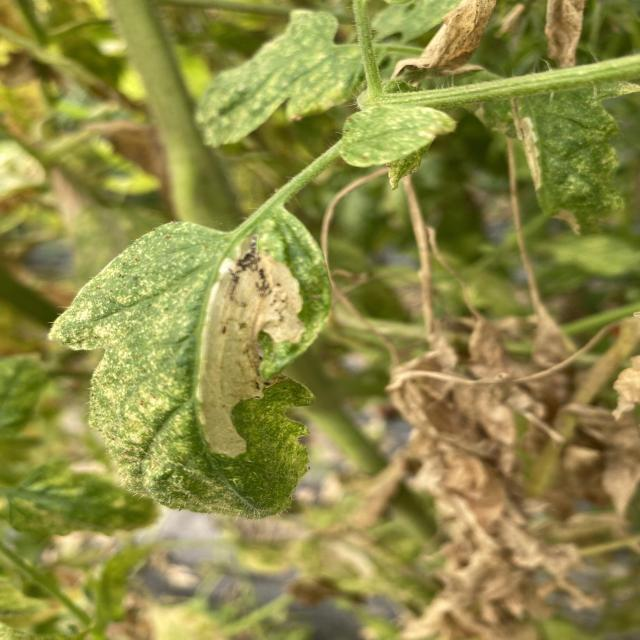Tuta absoluta: (158, 226, 330, 467)
